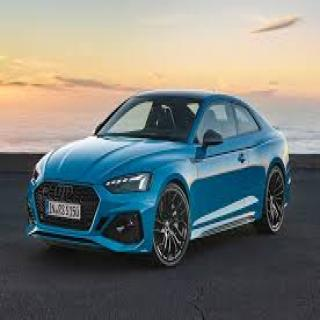Normal_vehicle: (24, 88, 295, 268)
